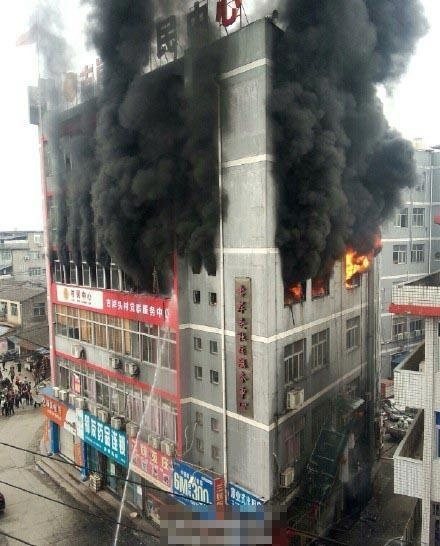fire: (343, 242, 377, 285)
